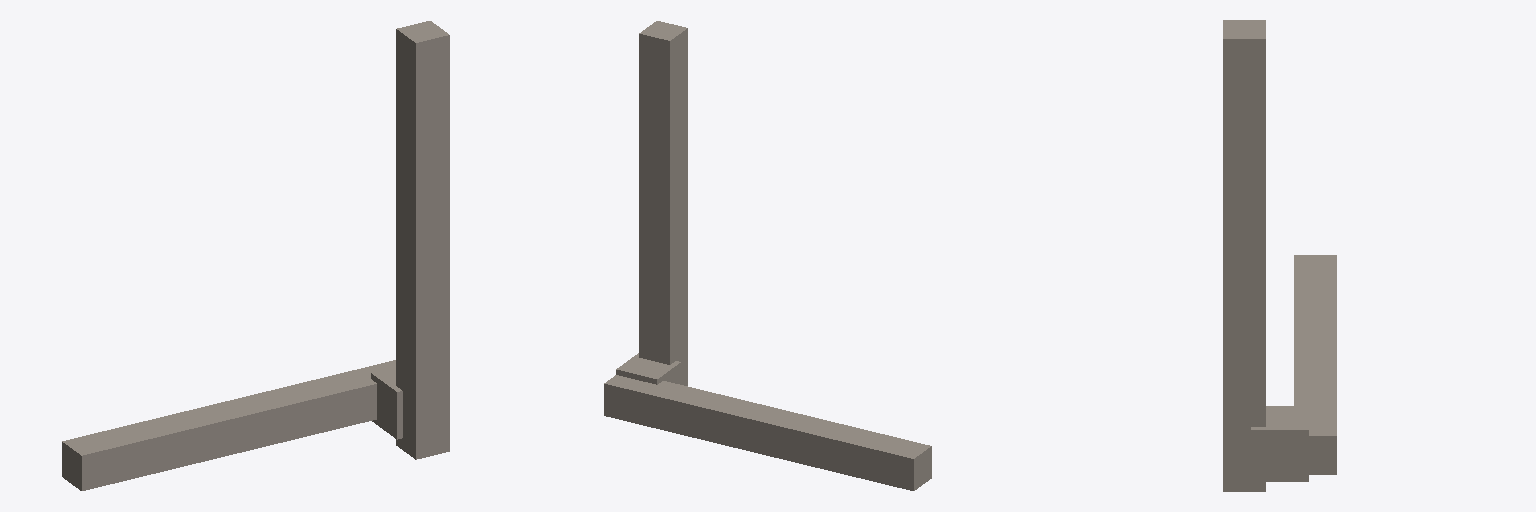
URDF robot description (Cartesian):
<?xml version="1.0" encoding="utf-8"?>
<!-- This URDF was automatically created by SolidWorks to URDF Exporter! Originally created by [author] ([email redacted]) 
     Commit Version: 1.6.0-1-g15f4949  Build Version: 1.6.7594.29634
     For more information, please see http://wiki.ros.org/sw_urdf_exporter -->
<robot
  name="Cartesian">
  <link
    name="base_link">
    <inertial>
      <origin
        xyz="-0.0055556 0 0.0094444"
        rpy="0 0 0" />
      <mass
        value="7.4258" />
      <inertia
        ixx="0.07605"
        ixy="1.4151E-19"
        ixz="0.00022919"
        iyy="0.013362"
        iyz="1.3595E-20"
        izz="0.088922" />
    </inertial>
    <visual>
      <origin
        xyz="0 0 0"
        rpy="0 0 0" />
      <geometry>
        <mesh
          filename="package://jaco_description/meshes/cart/base_link.STL" />
      </geometry>
      <material
        name="">
        <color
          rgba="0.65098 0.61961 0.58824 1" />
      </material>
    </visual>
    <collision>
      <origin
        xyz="0 0 0"
        rpy="0 0 0" />
      <geometry>
        <mesh
          filename="package://jaco_description/meshes/cart/base_link.STL" />
      </geometry>
    </collision>
  </link>
  <link
    name="tower_link">
    <inertial>
      <origin
        xyz="0 0 0.175"
        rpy="0 0 0" />
      <mass
        value="2.4753" />
      <inertia
        ixx="0.025454"
        ixy="4.1933E-21"
        ixz="2.0783E-34"
        iyy="0.025454"
        iyz="-2.3908E-19"
        izz="0.00037129" />
    </inertial>
    <visual>
      <origin
        xyz="0 0 0"
        rpy="0 0 0" />
      <geometry>
        <mesh
          filename="package://jaco_description/meshes/cart/tower_link.STL" />
      </geometry>
      <material
        name="">
        <color
          rgba="0.65098 0.61961 0.58824 1" />
      </material>
    </visual>
    <collision>
      <origin
        xyz="0 0 0"
        rpy="0 0 0" />
      <geometry>
        <mesh
          filename="package://jaco_description/meshes/cart/tower_link.STL" />
      </geometry>
    </collision>
  </link>
  <joint
    name="base_tower_prismatic_joint"
    type="prismatic">
    <origin
      xyz="0.05 -0.16 0.01"
      rpy="0 0 0" />
    <parent
      link="base_link" />
    <child
      link="tower_link" />
    <axis
      xyz="0 1 0" />
    <limit
      lower="-1"
      upper="1"
      effort="0"
      velocity="0" />
  </joint>
  <link
    name="shoulder_link">
    <inertial>
      <origin
        xyz="-0.0034615 -0.02 1.3878E-17"
        rpy="0 0 0" />
      <mass
        value="0.31432" />
      <inertia
        ixx="9.482E-05"
        ixy="1.625E-21"
        ixz="8.9762E-22"
        iyy="7.046E-05"
        iyz="3.0177E-21"
        izz="7.046E-05" />
    </inertial>
    <visual>
      <origin
        xyz="0 0 0"
        rpy="0 0 0" />
      <geometry>
        <mesh
          filename="package://jaco_description/meshes/cart/shoulder_link.STL" />
      </geometry>
      <material
        name="">
        <color
          rgba="0.65098 0.61961 0.58824 1" />
      </material>
    </visual>
    <collision>
      <origin
        xyz="0 0 0"
        rpy="0 0 0" />
      <geometry>
        <mesh
          filename="package://jaco_description/meshes/cart/shoulder_link.STL" />
      </geometry>
    </collision>
  </link>
  <joint
    name="tower_shoulder_prismatic_joint"
    type="prismatic">
    <origin
      xyz="0 0.028462 0.05"
      rpy="1.5708 0 1.5708" />
    <parent
      link="tower_link" />
    <child
      link="shoulder_link" />
    <axis
      xyz="0 1 0" />
    <limit
      lower="-1"
      upper="1"
      effort="0"
      velocity="0" />
  </joint>
  <link
    name="arm_link">
    <inertial>
      <origin
        xyz="2.7756E-17 -2.2551E-17 -0.15"
        rpy="0 0 0" />
      <mass
        value="2.1217" />
      <inertia
        ixx="0.016072"
        ixy="5.9379E-21"
        ixz="-1.364E-19"
        iyy="0.016072"
        iyz="-1.9871E-18"
        izz="0.00031825" />
    </inertial>
    <visual>
      <origin
        xyz="0 0 0"
        rpy="0 0 0" />
      <geometry>
        <mesh
          filename="package://jaco_description/meshes/cart/arm_link.STL" />
      </geometry>
      <material
        name="">
        <color
          rgba="0.65098 0.61961 0.58824 1" />
      </material>
    </visual>
    <collision>
      <origin
        xyz="0 0 0"
        rpy="0 0 0" />
      <geometry>
        <mesh
          filename="package://jaco_description/meshes/cart/arm_link.STL" />
      </geometry>
    </collision>
  </link>
  <joint
    name="shoulder_arm_prismatic_joint"
    type="prismatic">
    <origin
      xyz="0.021538 -0.02 0.02"
      rpy="0 0 0" />
    <parent
      link="shoulder_link" />
    <child
      link="arm_link" />
    <axis
      xyz="0 0 -1" />
    <limit
      lower="-1"
      upper="1"
      effort="0"
      velocity="0" />
  </joint>
</robot>

--- Render facts (derived) ---
The picture shows the robot from 3 angles, left to right: view 1: azimuth 30°, elevation 25°; view 2: azimuth 150°, elevation 25°; view 3: azimuth 270°, elevation 25°; orthographic projection.
Model Cartesian with 4 links and 3 joints (3 prismatic), rooted at base_link, posed all joints at 0.
Links seen in each view (by area): view 1: tower_link, arm_link, shoulder_link; view 2: tower_link, arm_link, shoulder_link; view 3: tower_link, arm_link, shoulder_link.
Link boxes in pixels (left/top/right/bottom): tower_link: left=396, top=21, right=449, bottom=459; arm_link: left=62, top=360, right=395, bottom=490; shoulder_link: left=371, top=367, right=402, bottom=439; tower_link: left=639, top=21, right=687, bottom=385; arm_link: left=604, top=375, right=931, bottom=490; shoulder_link: left=616, top=353, right=680, bottom=384; tower_link: left=1223, top=20, right=1265, bottom=491; arm_link: left=1294, top=255, right=1336, bottom=474; shoulder_link: left=1251, top=406, right=1308, bottom=481.
Size in the robot's own frame: 0.3 by 0.08 by 0.35 metres.
3 mesh visuals loaded from 4 distinct referenced files (3 binary STL); not drawn: 1 (reference not matched to a file when rendering).